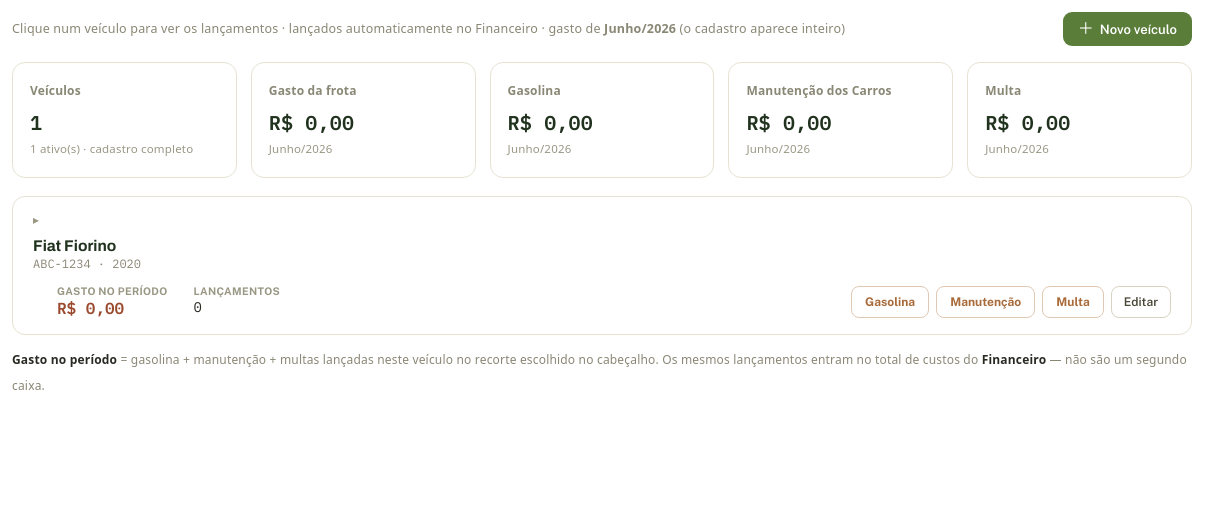
VeiculosLista — veiculo SEM gasto no periodo › o historico do periodo vazio diz "Nenhum lancamento no periodo", nao "indisponivel"
Check: the text "Fiat Fiorino" is shown, box 33,237 -> 116,254
Click the button that starts with "Fiat Fiorino" at (75, 246), box 33,213 -> 839,318
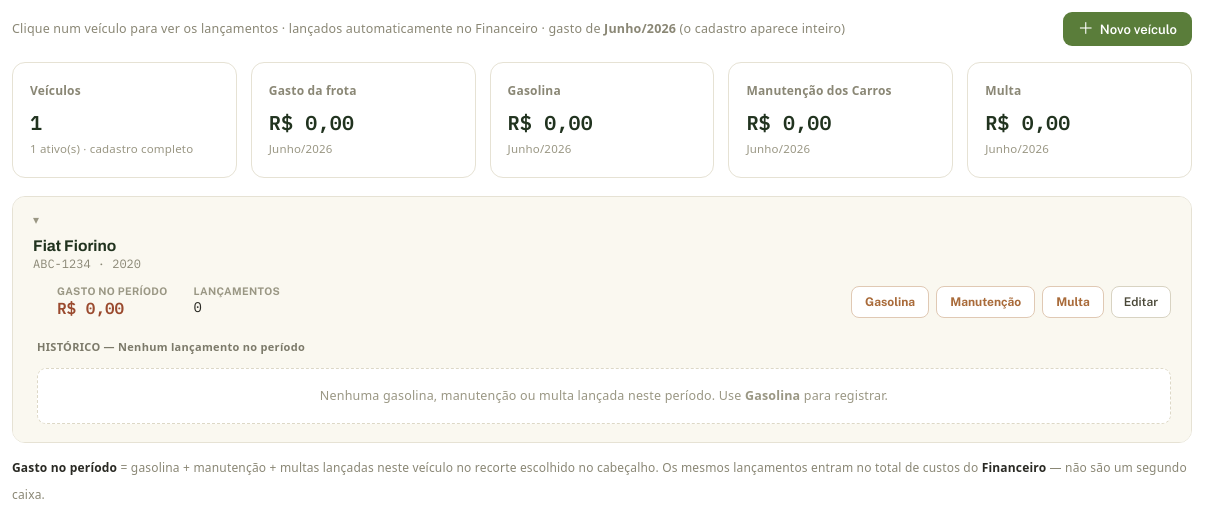
Check: the text "HISTÓRICO — Nenhum lançamento no período" is shown, box 37,339 -> 305,354
